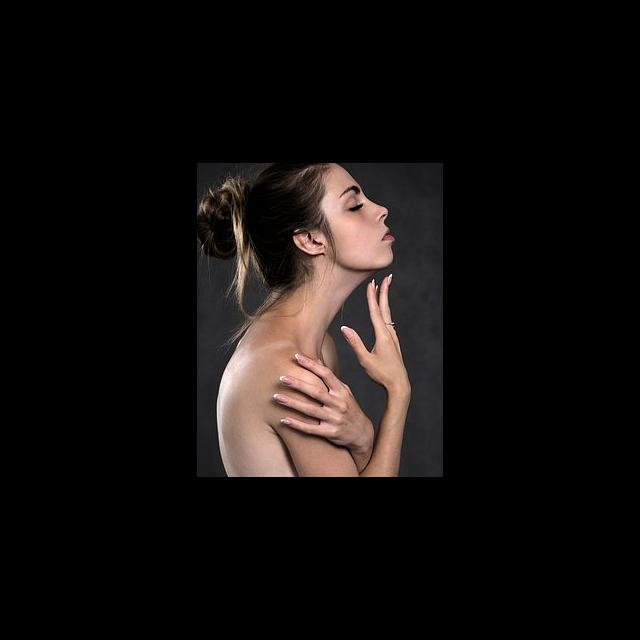female: (232, 163, 399, 295)
